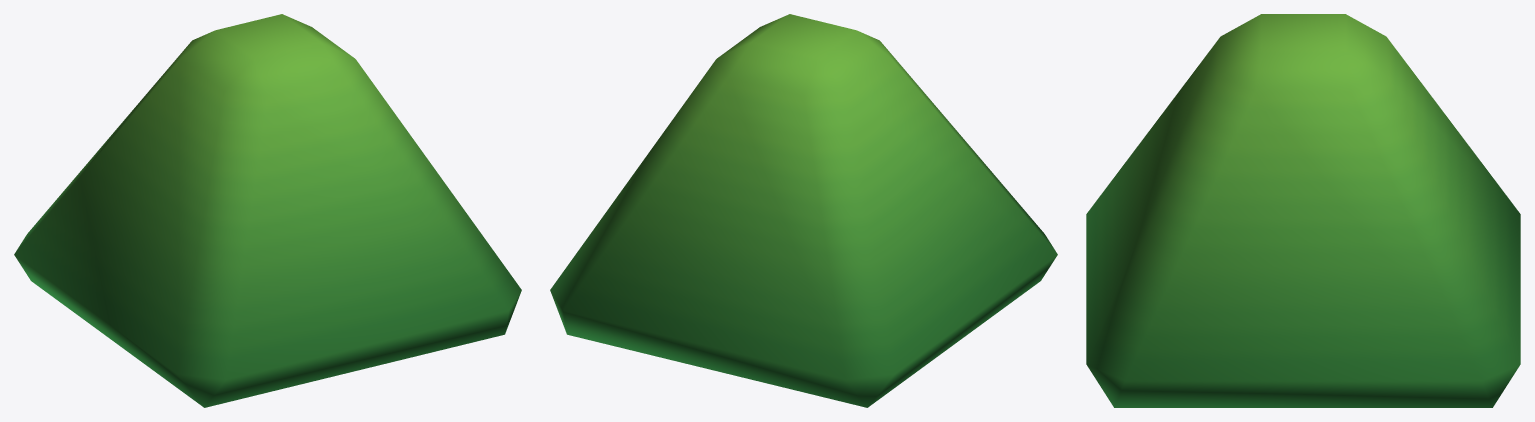
The model's file is Bush_4_A_Color1.gltf.
The picture shows the model from 3 angles, left to right: view 1: azimuth 30°, elevation 25°; view 2: azimuth 150°, elevation 25°; view 3: azimuth 270°, elevation 25°; orthographic projection. The views are drawn at different scales.
Visible parts, largest first — view 1: Bush_4_A_Color1; view 2: Bush_4_A_Color1; view 3: Bush_4_A_Color1.
Boxes of the visible parts, x1,y1,x2,y2 form: Bush_4_A_Color1: [14, 14, 521, 407]; Bush_4_A_Color1: [550, 14, 1057, 407]; Bush_4_A_Color1: [1086, 14, 1520, 407].
Bounding box in the file's own units: 0.5768 × 0.4344 × 0.5768.
Materials: 1 (1 with a texture image).
